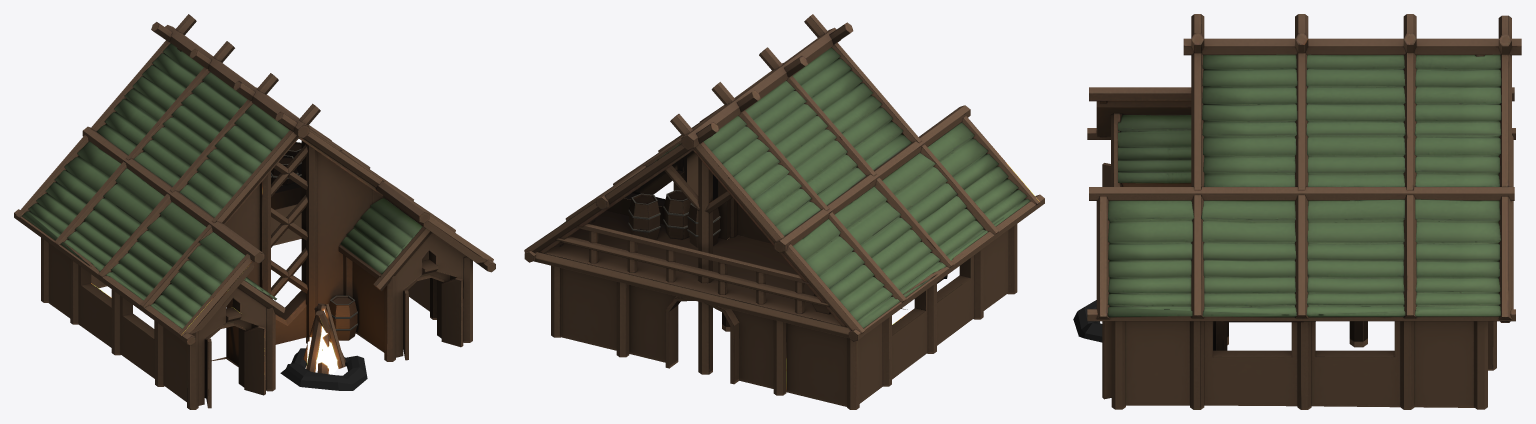
The model's file is guildhall.gltf.
3 renders of one model, left to right at view 1: azimuth 30°, elevation 25°; view 2: azimuth 150°, elevation 25°; view 3: azimuth 270°, elevation 25°, orthographic. The views are drawn at different scales.
Visible parts, largest first — view 1: building; view 2: building; view 3: building.
Part boxes in pixels (bbox=[...]): building: bbox=[14, 14, 495, 409]; building: bbox=[524, 14, 1044, 409]; building: bbox=[1073, 14, 1521, 409].
Size of the model in its own units: 9.54 by 7.26 by 9.54.
5 materials, 2 textured.
